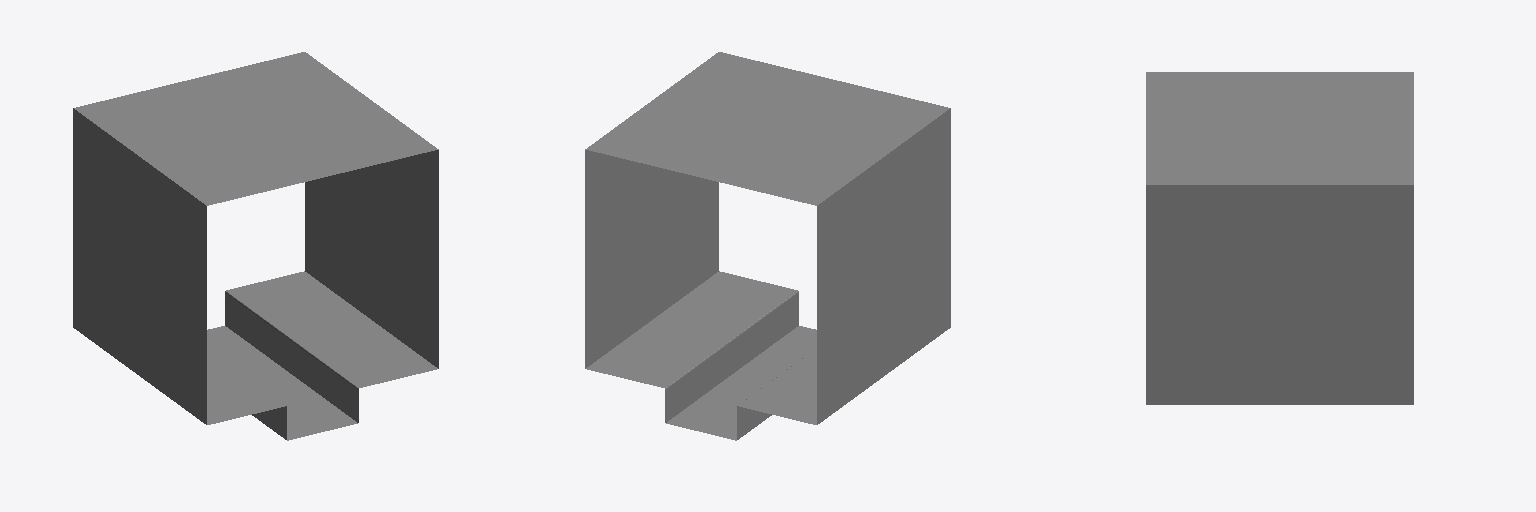
The model's file is straight_tile.obj.
3 renders of one model, left to right at view 1: azimuth 30°, elevation 25°; view 2: azimuth 150°, elevation 25°; view 3: azimuth 270°, elevation 25°, orthographic.
Parts seen in each view (by area): view 1: corridor_open1_walls; view 2: corridor_open1_walls; view 3: corridor_open1_walls.
Boxes of the visible parts, x1=… form: corridor_open1_walls: x1=73, y1=52, x2=438, y2=440; corridor_open1_walls: x1=585, y1=52, x2=950, y2=440; corridor_open1_walls: x1=1146, y1=72, x2=1413, y2=404.
Size of the model in its own units: 305 by 320 by 305.